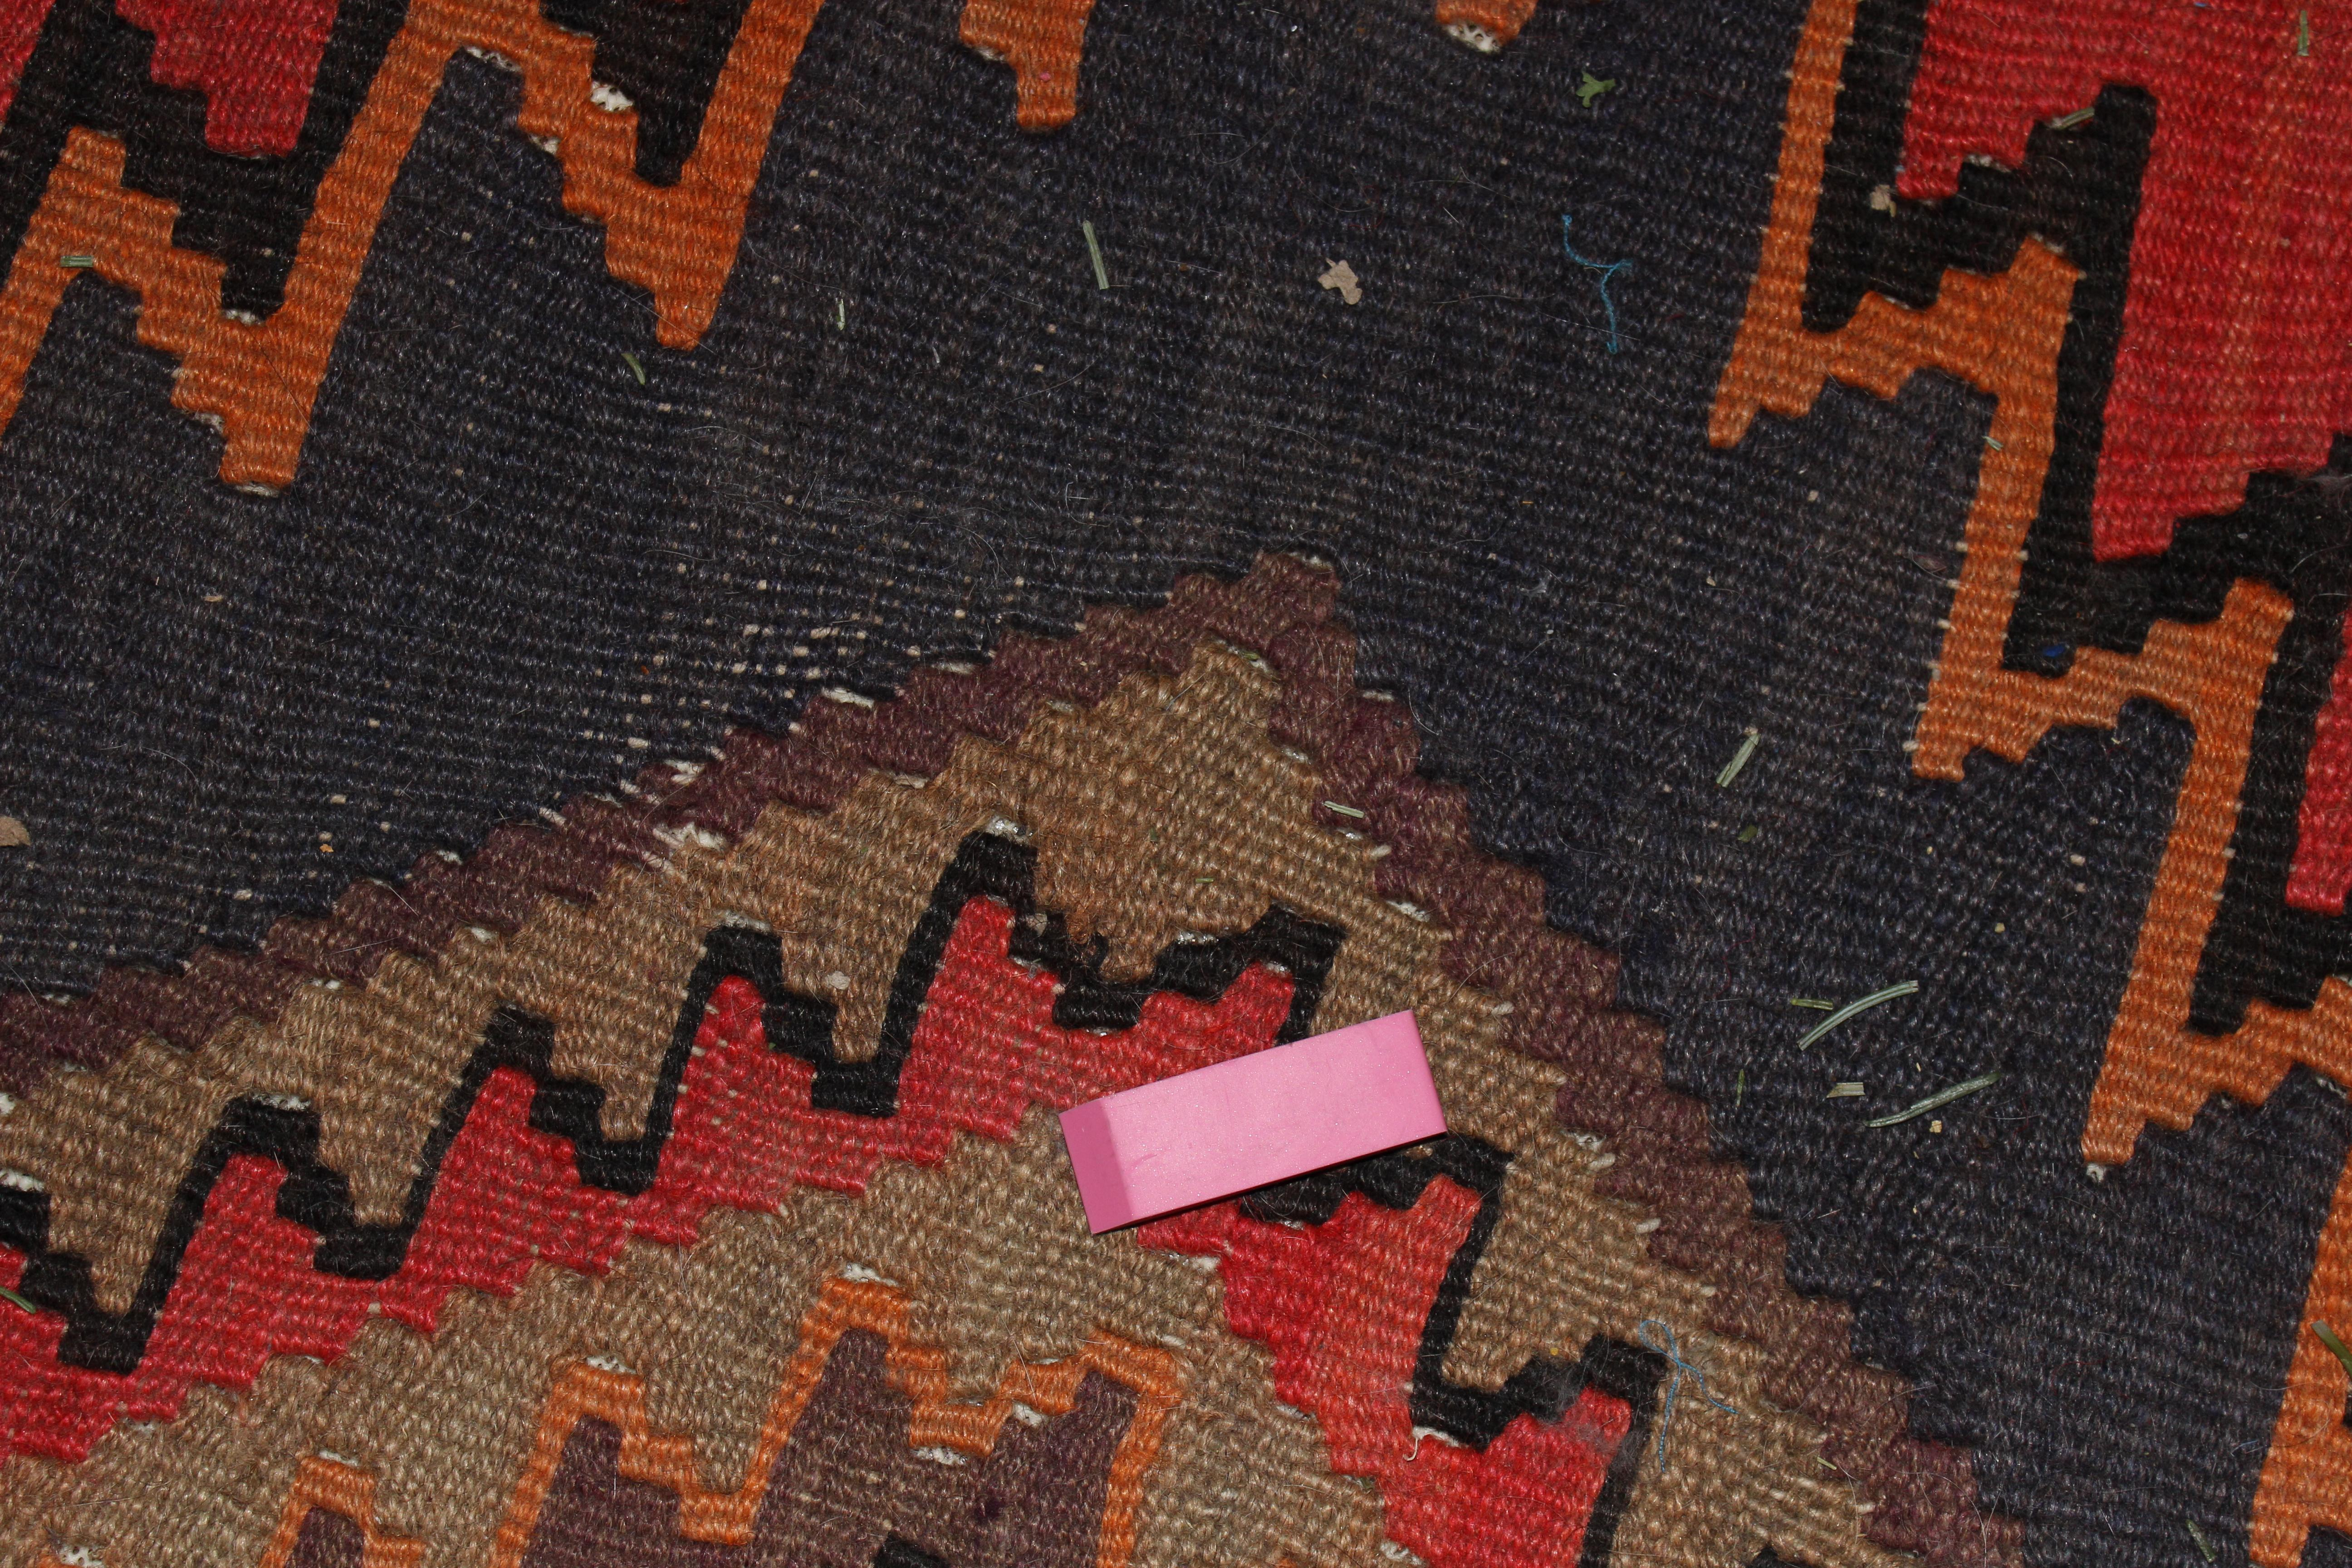pinkEraser: (1036, 987, 1465, 1251)
